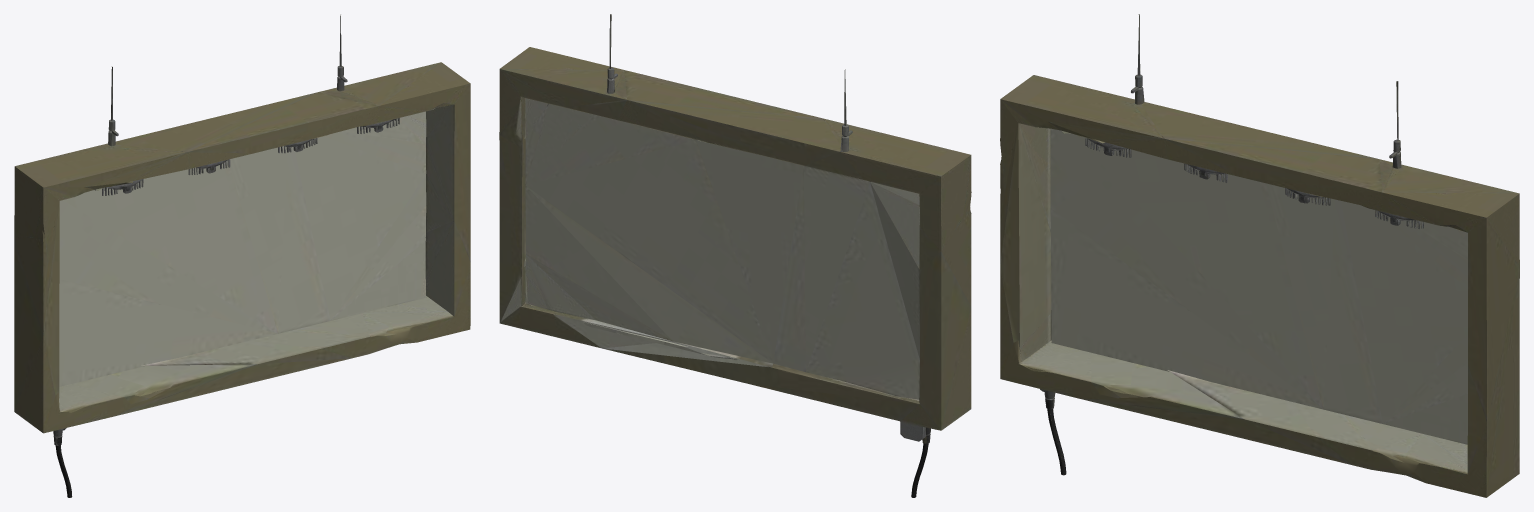
Rendered from negatoscopio_A.glb.
3 renders of one model, left to right at view 1: azimuth 30°, elevation 25°; view 2: azimuth 150°, elevation 25°; view 3: azimuth 330°, elevation 25°, orthographic. The views are drawn at different scales.
Parts seen in each view (by area): view 1: Mesh_0; view 2: Mesh_0; view 3: Mesh_0.
Boxes of the visible parts, bbox=[...] form: Mesh_0: bbox=[14, 14, 470, 497]; Mesh_0: bbox=[499, 14, 971, 497]; Mesh_0: bbox=[1000, 14, 1519, 497].
Size of the model in its own units: 1 by 0.9136 by 0.1191.
1 material, 1 textured.
